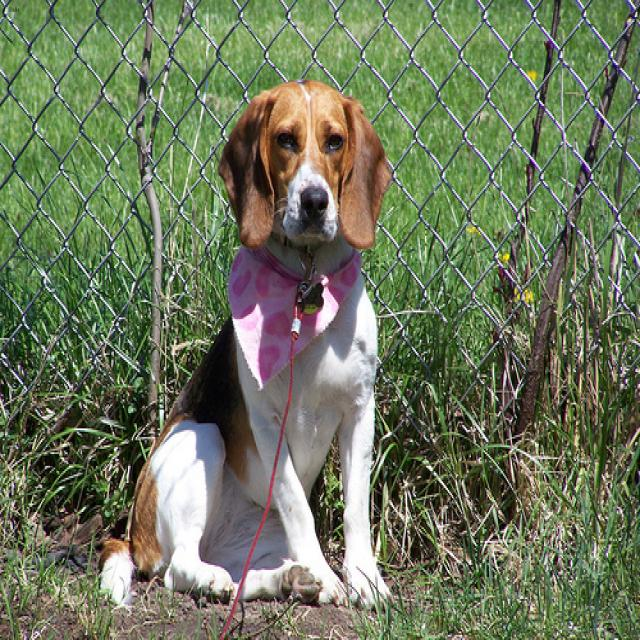dog-beagle: (87, 75, 401, 614)
